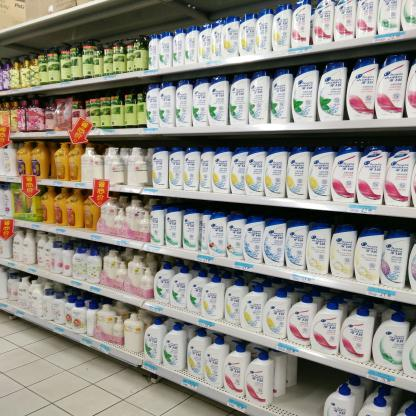Void: (284, 367, 322, 408)
